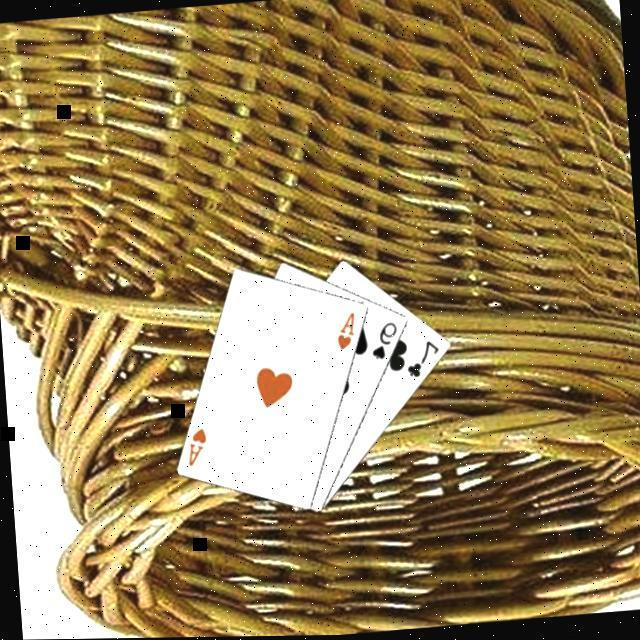7C: (399, 338, 442, 383)
9S: (365, 320, 400, 364)
AH: (329, 310, 358, 356), (181, 426, 210, 470)
